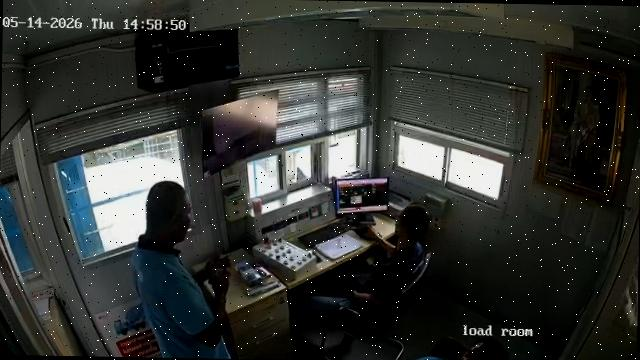Head: (144, 180, 198, 246), (392, 204, 431, 244), (456, 338, 508, 360)
People: (132, 182, 230, 358), (305, 204, 430, 318), (463, 340, 508, 359)
